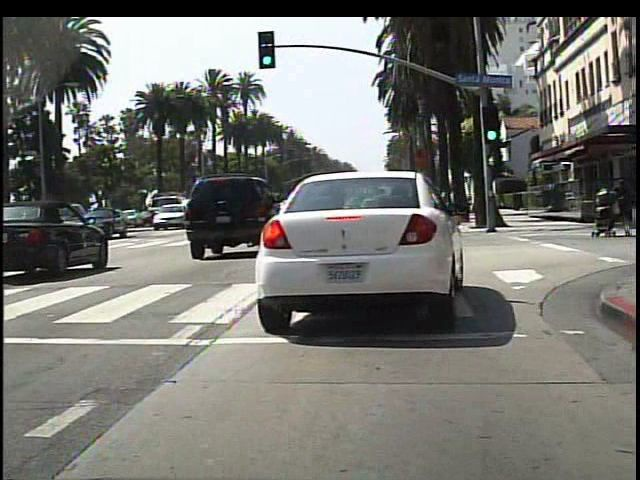person: (586, 163, 634, 242)
